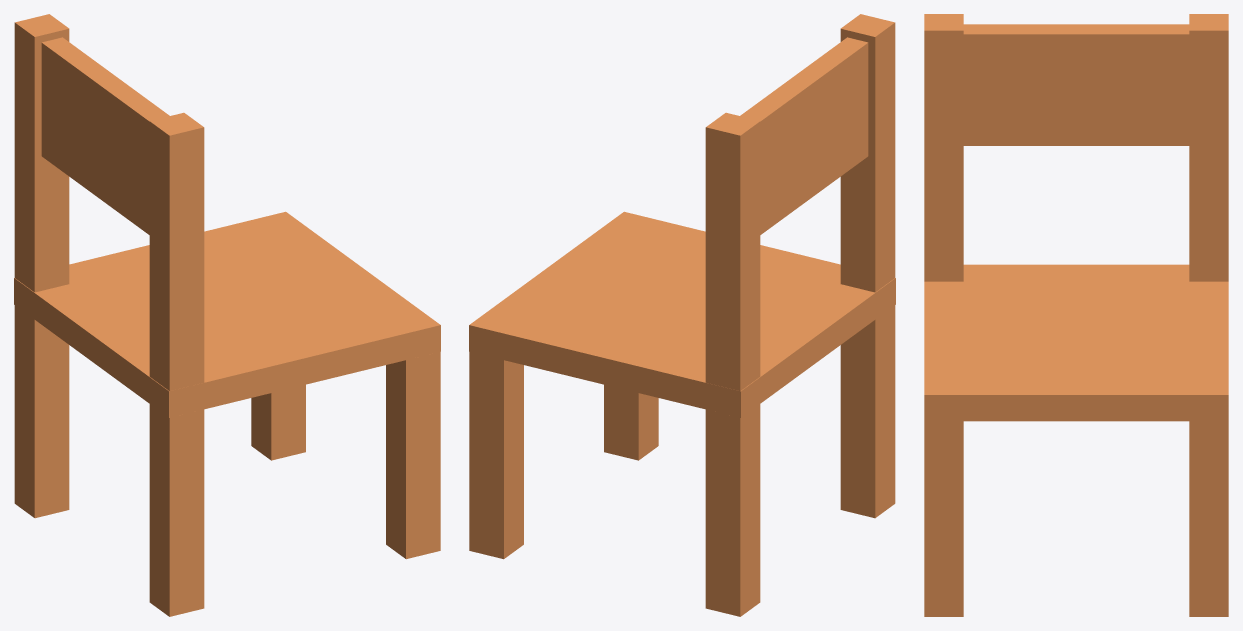
File: Chair.fbx
3 renders of one model, left to right at view 1: azimuth 30°, elevation 25°; view 2: azimuth 150°, elevation 25°; view 3: azimuth 270°, elevation 25°, orthographic.
Visible parts, largest first — view 1: Chair; view 2: Chair; view 3: Chair.
Part boxes in pixels (x1,y1,x2,y2): Chair: (14, 14, 440, 616); Chair: (469, 14, 895, 616); Chair: (924, 14, 1228, 616).
Size of the model in its own units: 133 by 225 by 131.
